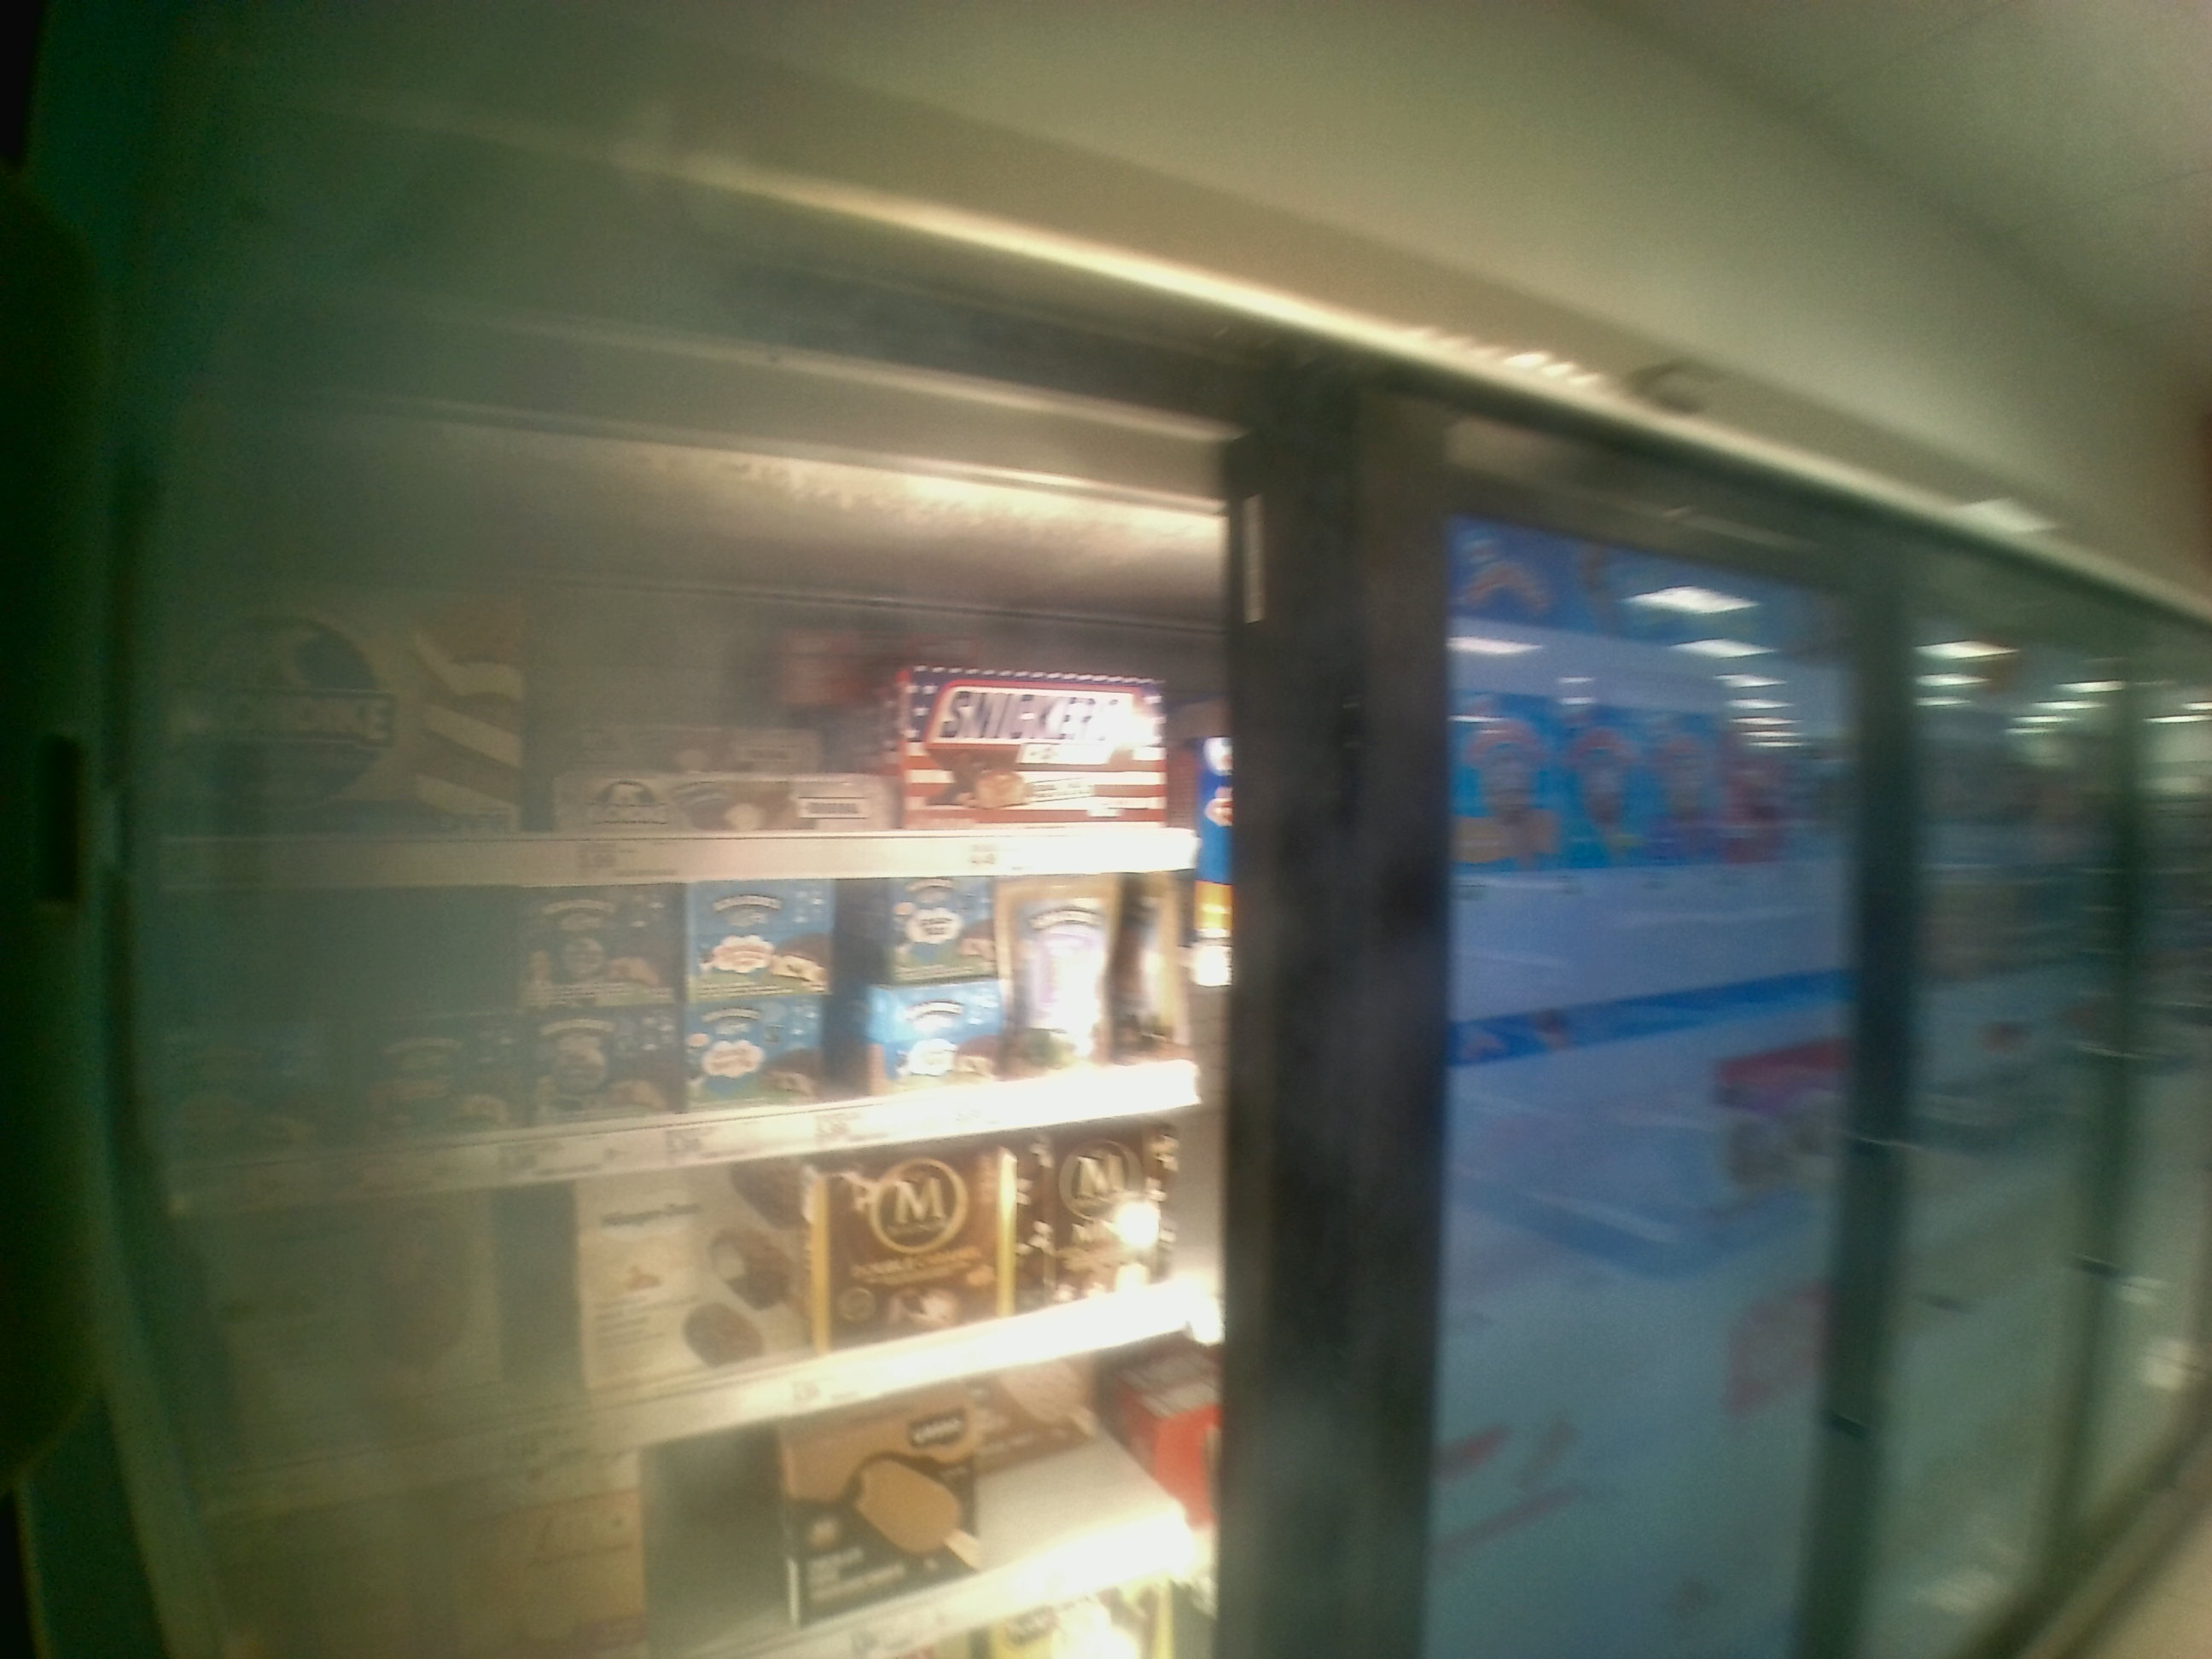shelf: (115, 471, 1230, 884), (113, 889, 1219, 1234)
